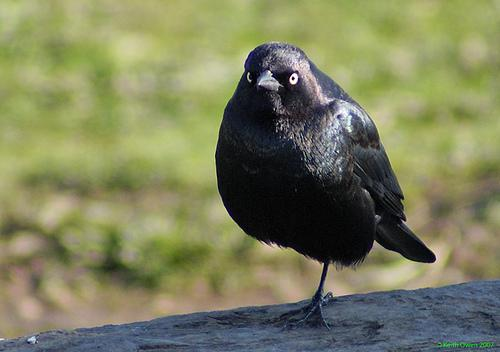009.Brewer_Blackbird: (215, 38, 439, 331)
